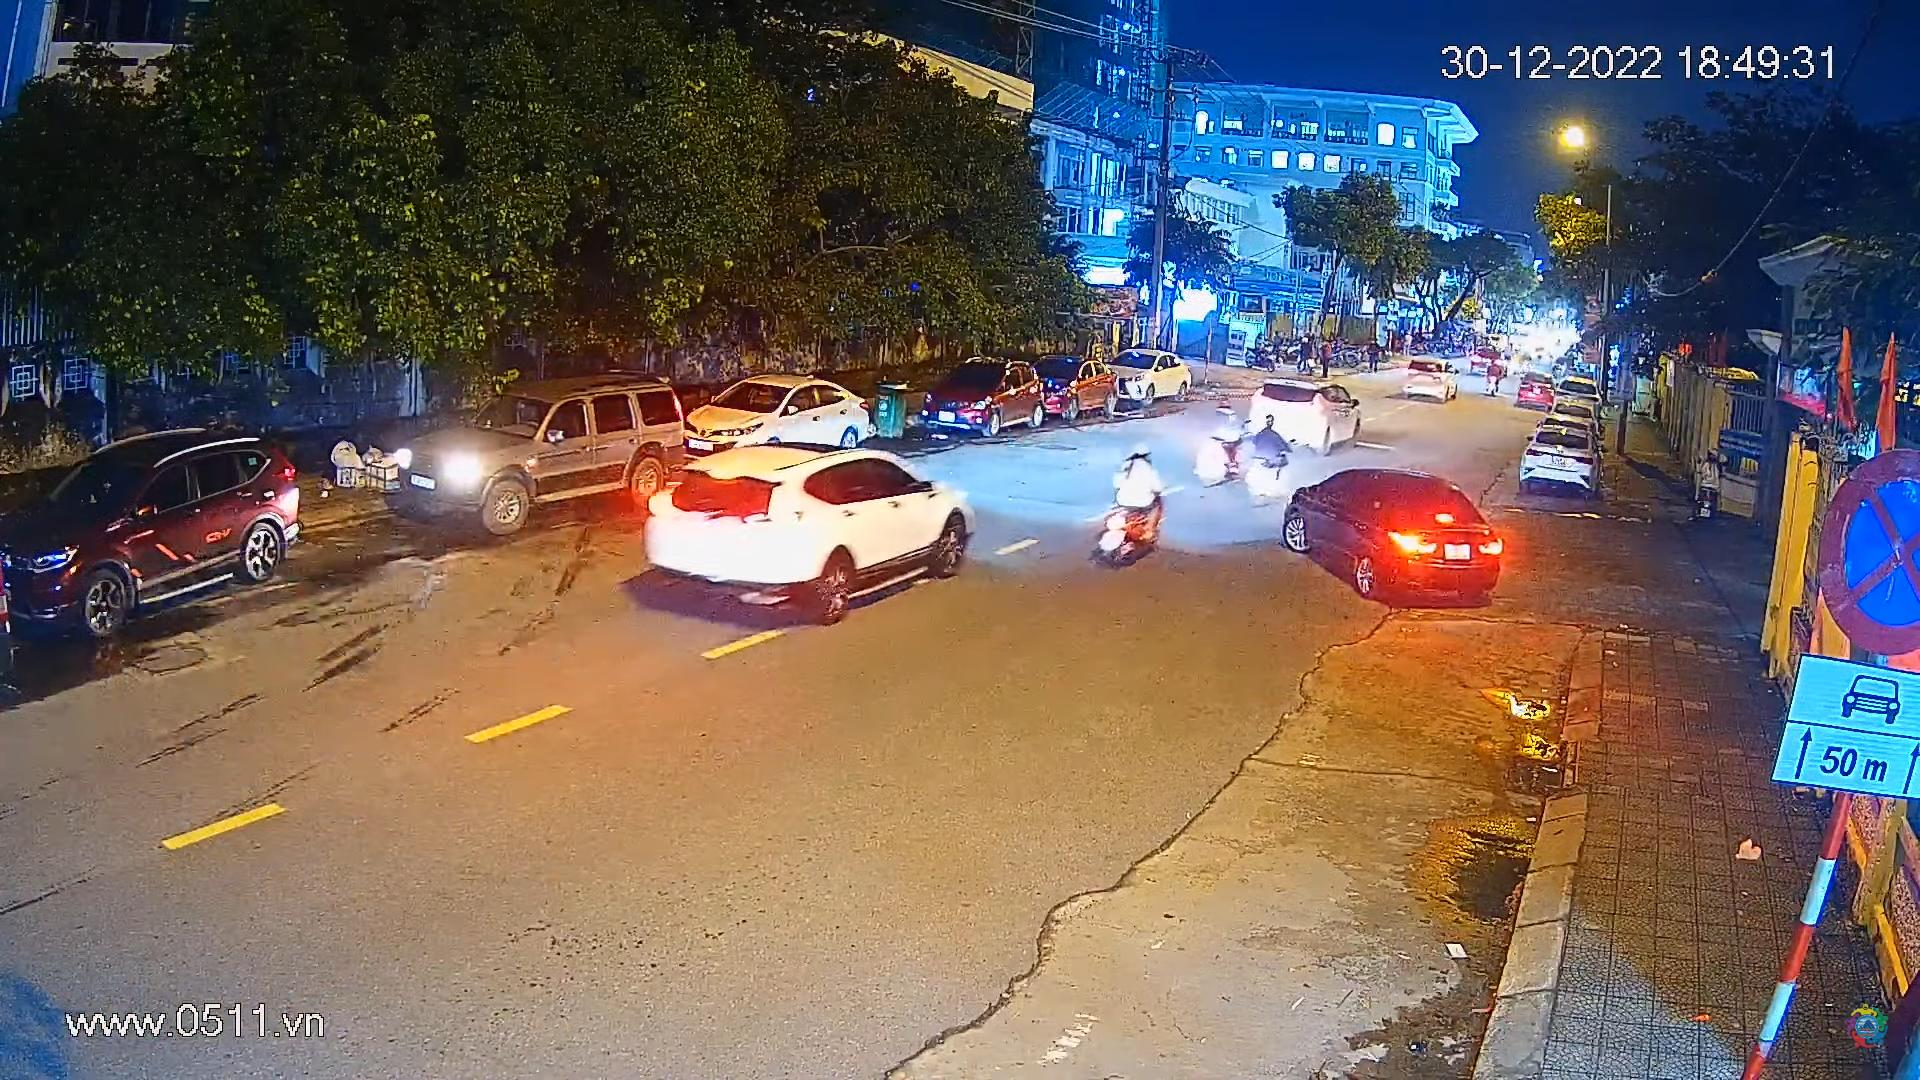car: (0, 422, 309, 640), (649, 447, 971, 628), (401, 371, 686, 538), (1283, 465, 1510, 611), (694, 375, 876, 468), (906, 355, 1046, 440), (1251, 365, 1362, 452), (1035, 349, 1126, 427), (1520, 418, 1600, 505), (1105, 349, 1199, 410), (1403, 352, 1458, 402), (1553, 377, 1601, 418), (1519, 371, 1556, 414)
motorcycle: (1091, 443, 1172, 572), (1688, 447, 1730, 524), (1484, 352, 1503, 397)
